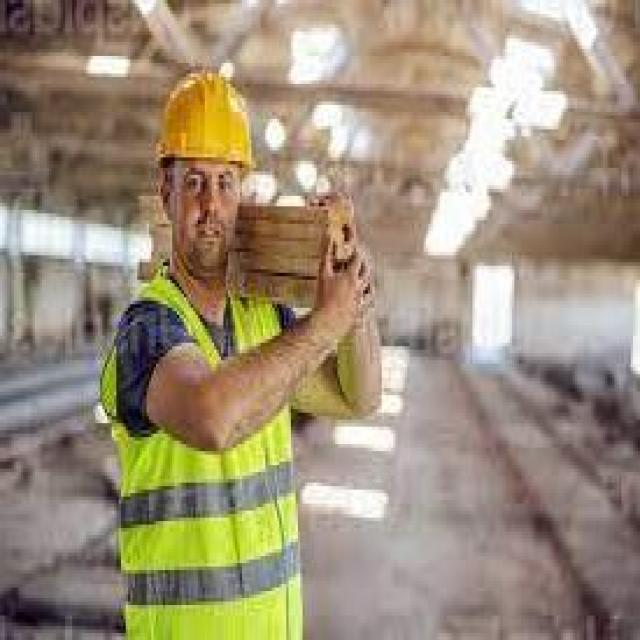reflective_jacket: (102, 276, 314, 632)
safety_helmet: (149, 63, 260, 189)
